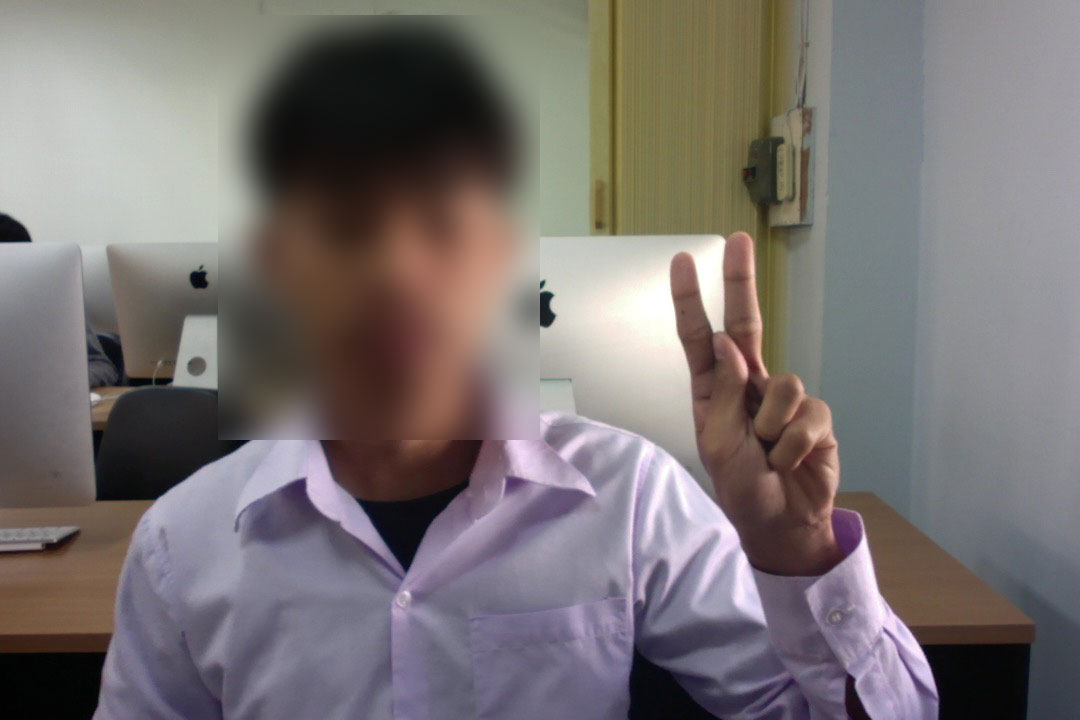ko: (647, 231, 856, 554)
